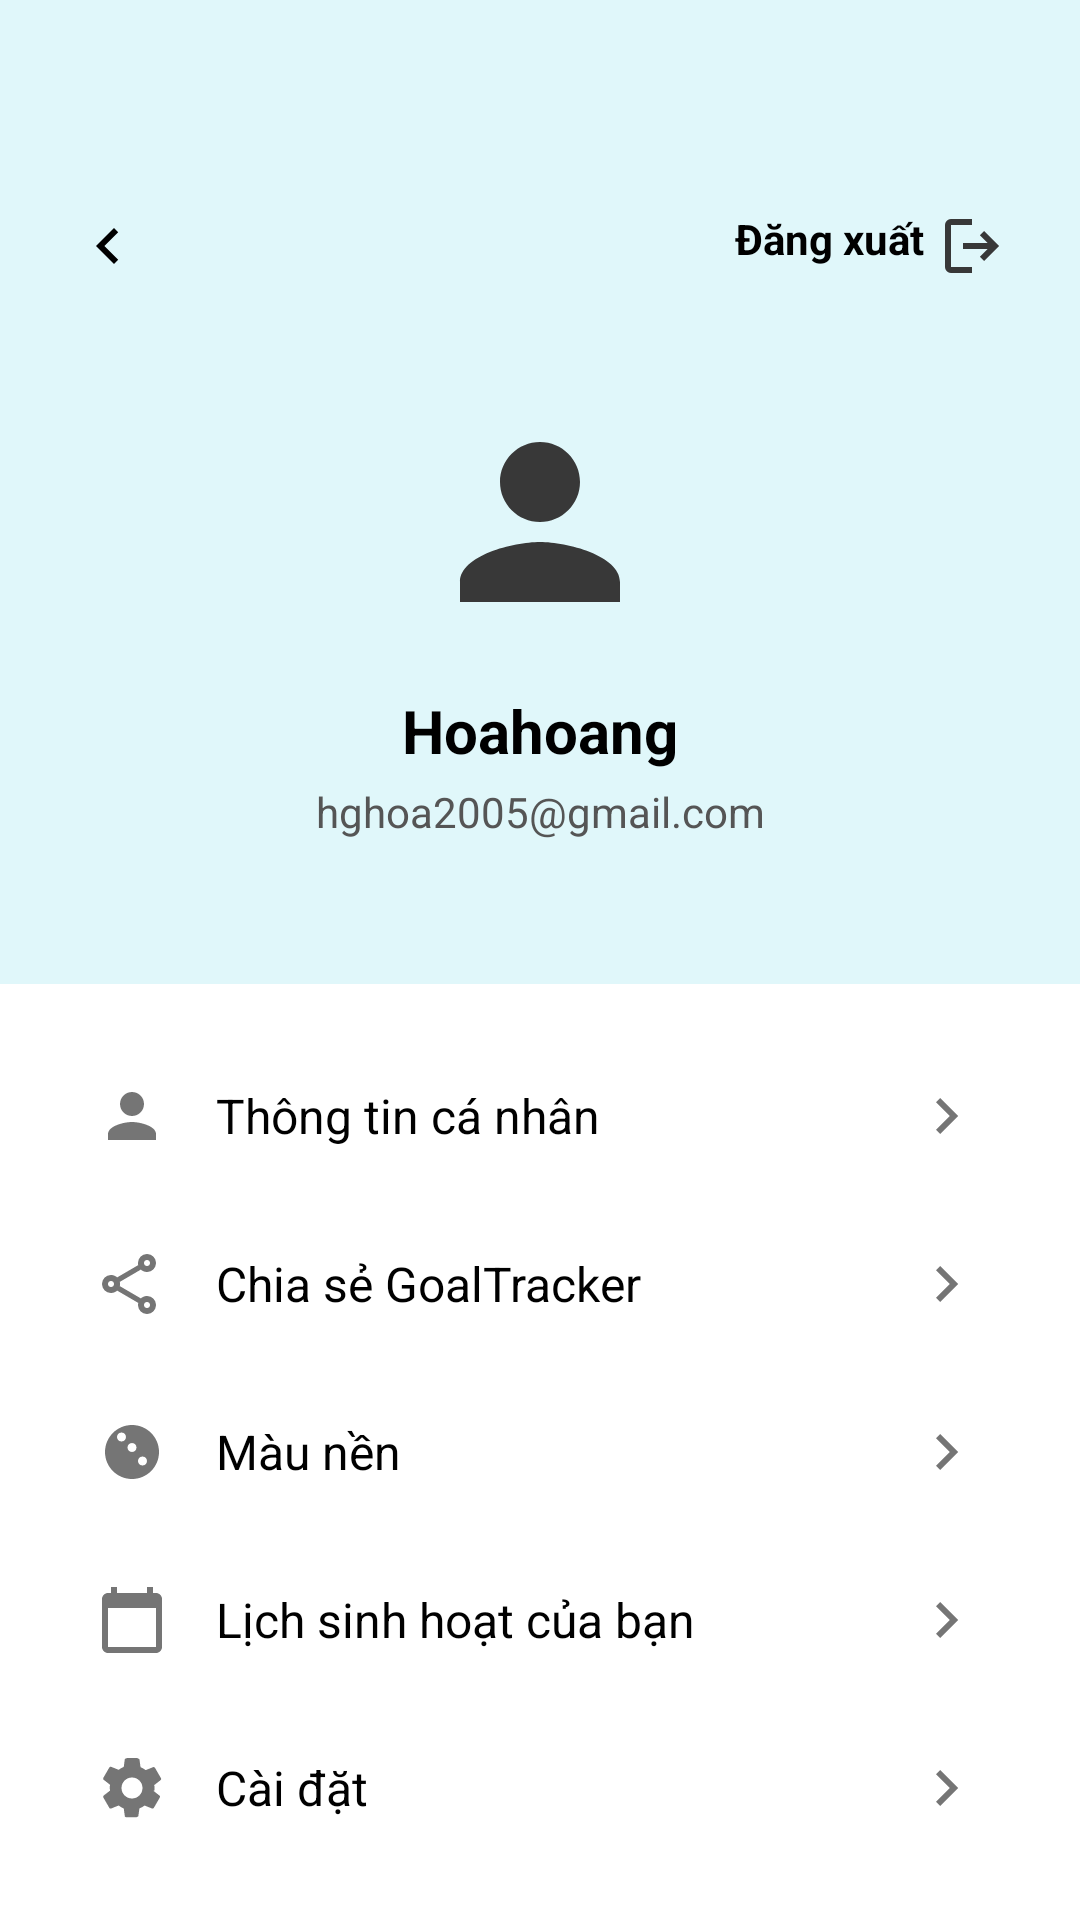

Screen size 1080px×1920px. Icon name, then its center in pixels as point (x, y):
arrow left: point (107, 246)
profile: point (540, 522)
